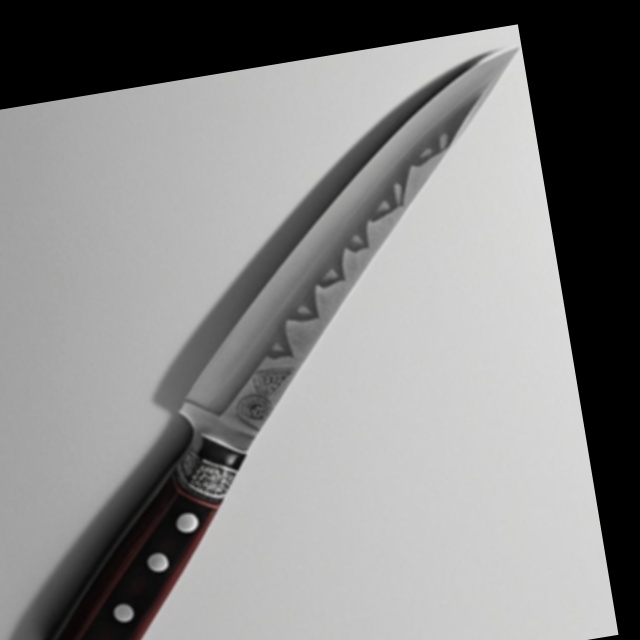Sharp-Object: (0, 39, 619, 640)
